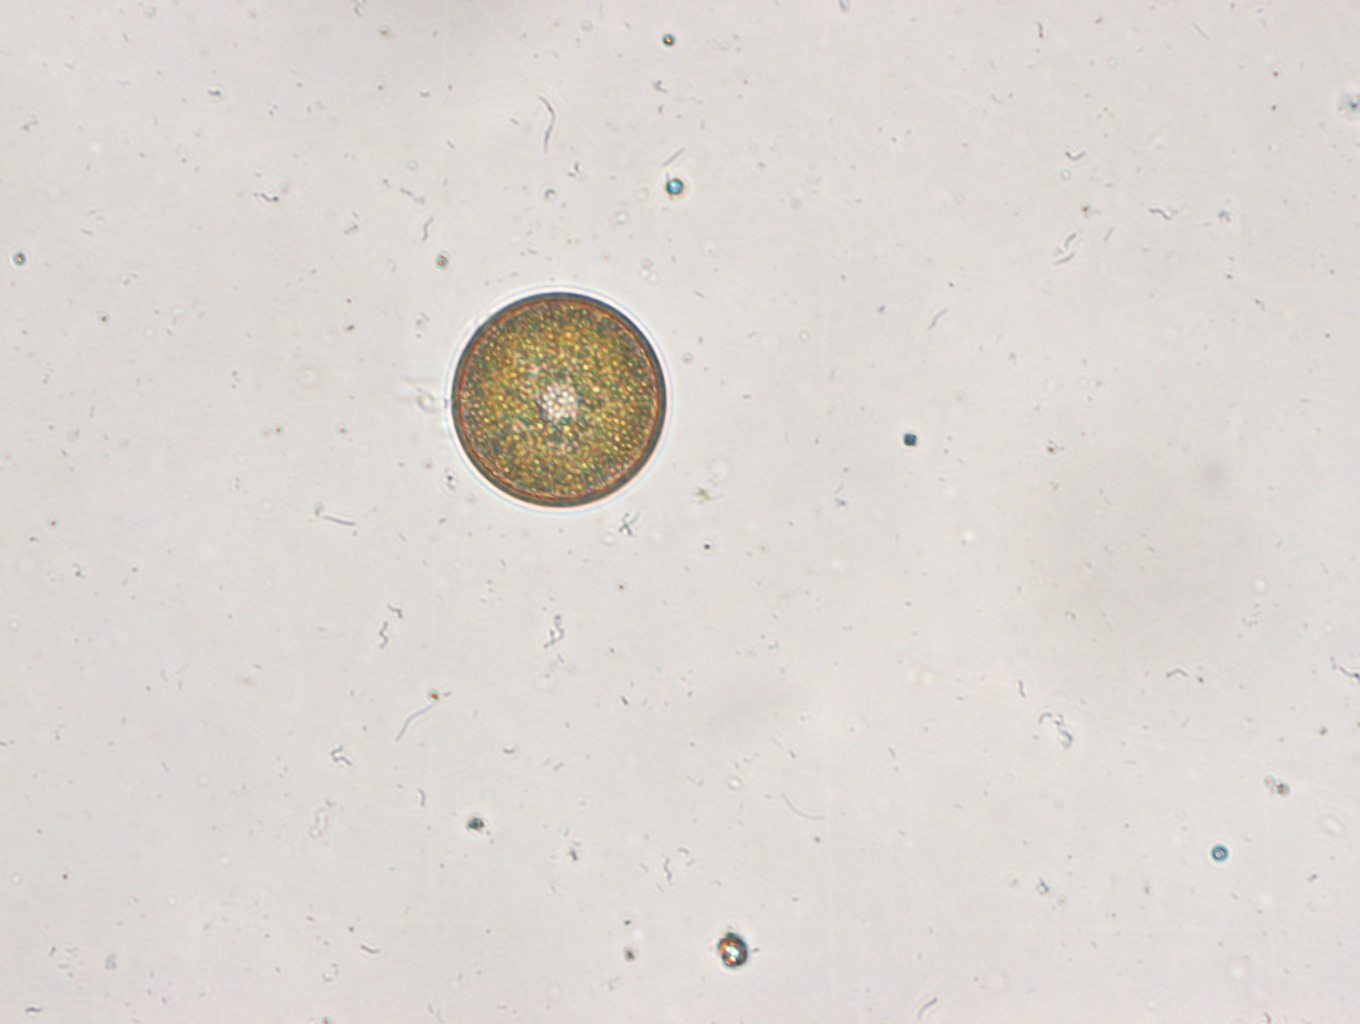coscinodiscus: (445, 286, 673, 511)
